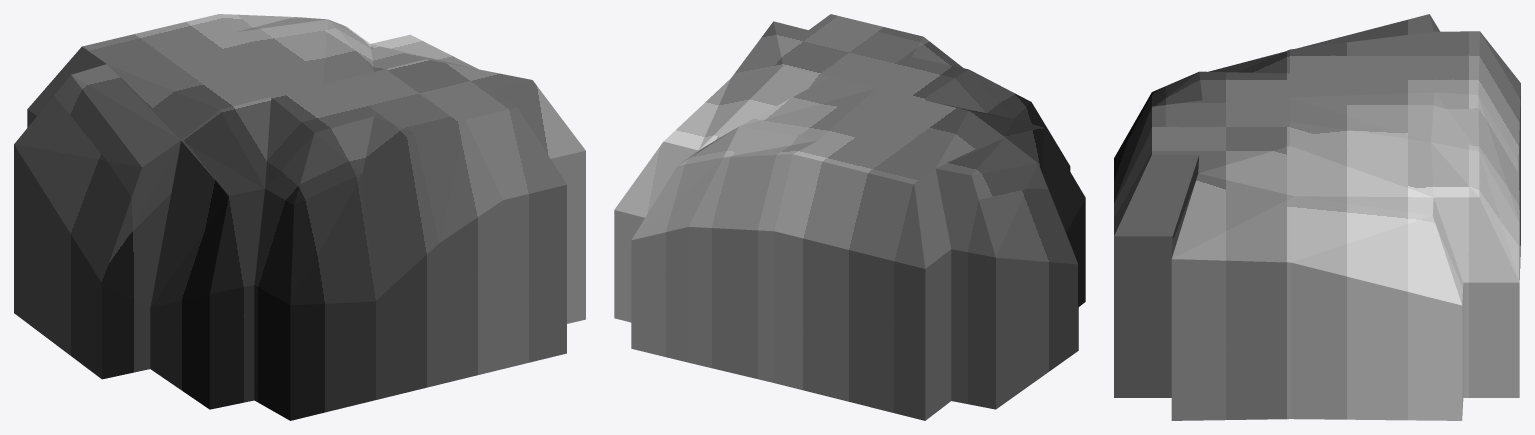
Rendered from Rock_331x05.gltf.
3 renders of one model, left to right at view 1: azimuth 30°, elevation 25°; view 2: azimuth 150°, elevation 25°; view 3: azimuth 270°, elevation 25°, orthographic. The views are drawn at different scales.
Parts seen in each view (by area): view 1: Rock_331x05; view 2: Rock_331x05; view 3: Rock_331x05.
Part boxes in pixels (x1,y1,x2,y2): Rock_331x05: [14, 14, 585, 420]; Rock_331x05: [614, 14, 1085, 420]; Rock_331x05: [1114, 14, 1520, 420].
Bounding box in the file's own units: 0.5492 × 0.2957 × 0.4757.
Materials: 1 (1 with a texture image).
